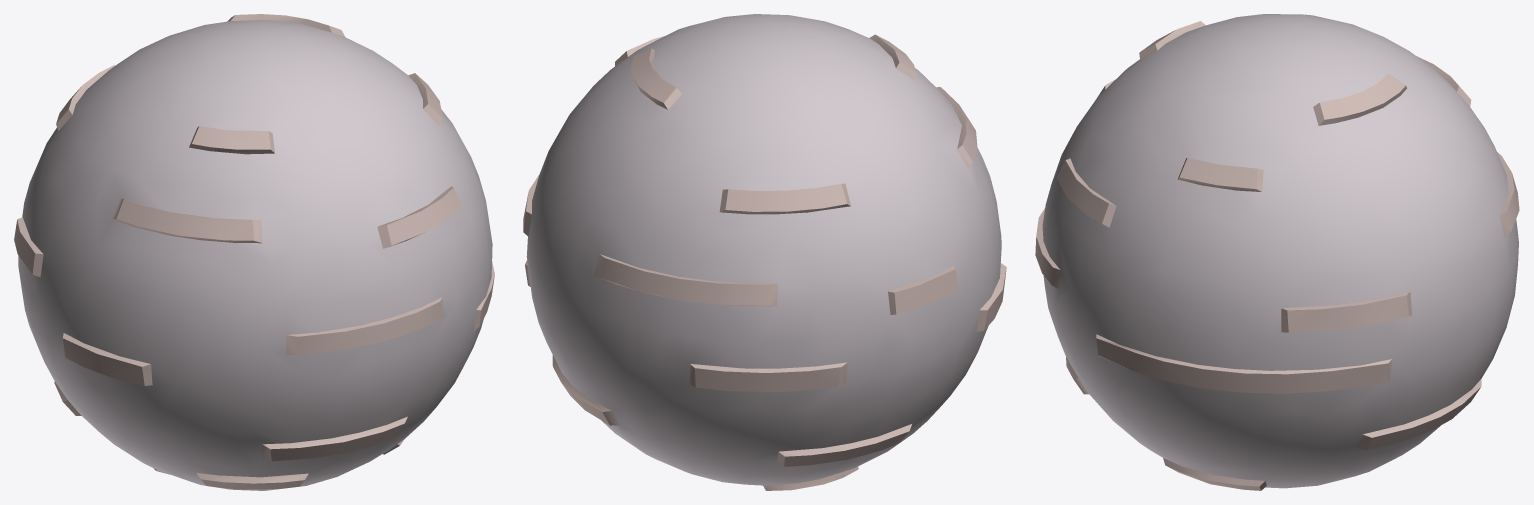
The model's file is quaternius-ultimate-space-planet-9-transformed.glb.
3 renders of one model, left to right at view 1: azimuth 30°, elevation 25°; view 2: azimuth 150°, elevation 25°; view 3: azimuth 270°, elevation 25°, orthographic.
Visible parts, largest first — view 1: Planet_9; view 2: Planet_9; view 3: Planet_9.
Part boxes in pixels (box(x1,y1,x2,y2)): Planet_9: box(14, 14, 494, 490); Planet_9: box(523, 14, 1006, 490); Planet_9: box(1035, 14, 1519, 490).
Size of the model in its own units: 3.82 by 3.75 by 3.81.
Materials: 1 (1 with a texture image).
